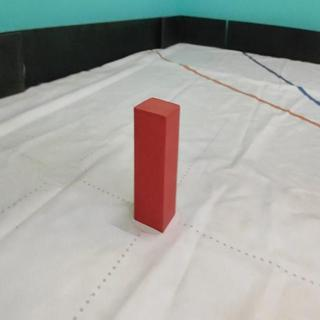redbox: (133, 95, 180, 232)
